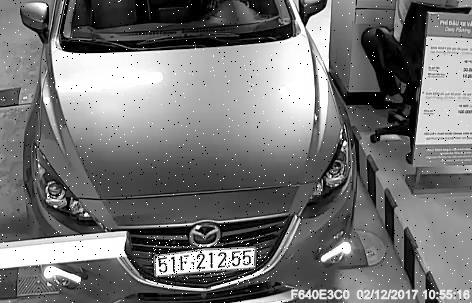License-plate: (148, 237, 270, 285)
